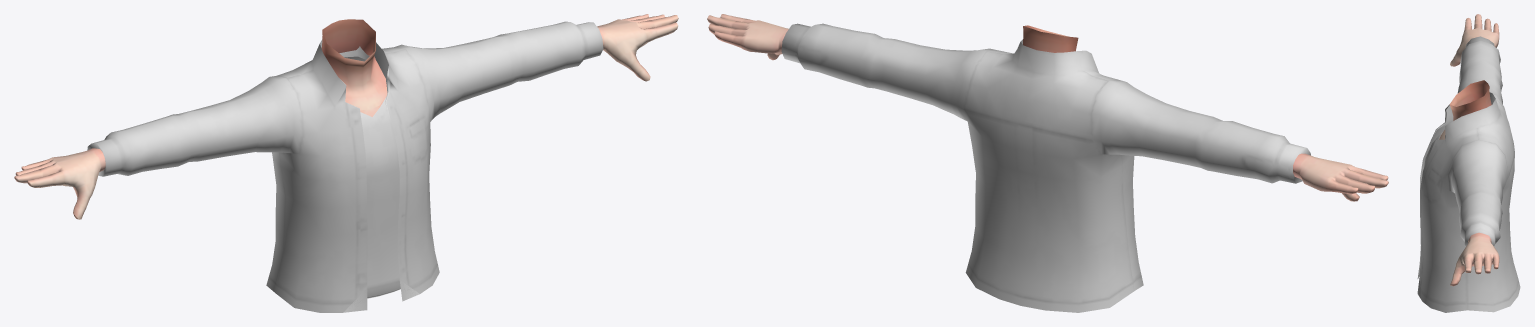
The model's file is tr0780_00_upb00.gltf.
The picture shows the model from 3 angles, left to right: view 1: azimuth 30°, elevation 25°; view 2: azimuth 150°, elevation 25°; view 3: azimuth 270°, elevation 25°; orthographic projection. The views are drawn at different scales.
Parts seen in each view (by area): view 1: upb00_upperbody_mesh_shape:upperbody00, upb00_upperskin_mesh_shape:upperbody00_skin; view 2: upb00_upperbody_mesh_shape:upperbody00, upb00_upperskin_mesh_shape:upperbody00_skin; view 3: upb00_upperbody_mesh_shape:upperbody00, upb00_upperskin_mesh_shape:upperbody00_skin.
Boxes of the visible parts, box(x1,y1,x2,y2) form: upb00_upperbody_mesh_shape:upperbody00: box(87, 21, 603, 312); upb00_upperskin_mesh_shape:upperbody00_skin: box(14, 14, 678, 219); upb00_upperbody_mesh_shape:upperbody00: box(781, 23, 1310, 312); upb00_upperskin_mesh_shape:upperbody00_skin: box(707, 14, 1388, 201); upb00_upperbody_mesh_shape:upperbody00: box(1417, 36, 1520, 312); upb00_upperskin_mesh_shape:upperbody00_skin: box(1439, 14, 1499, 286).
Size of what is drawn, in the model's own units: 1.63 by 0.5949 by 0.2764.
Materials: 2 (2 with a texture image).
